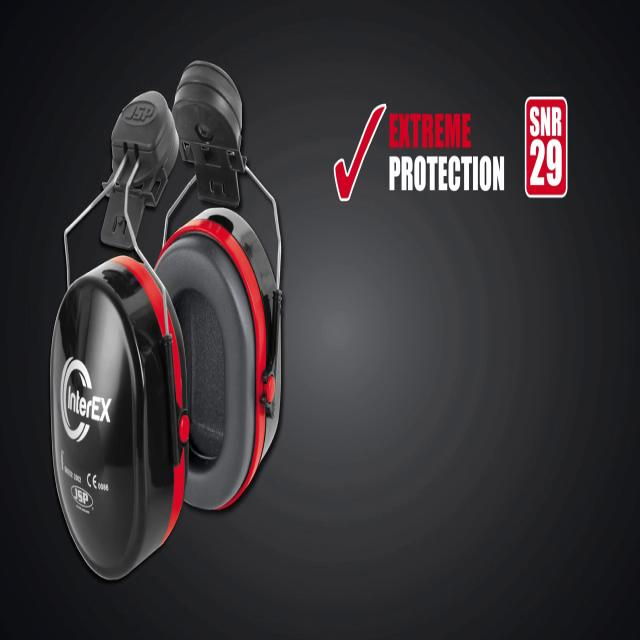earmuff: (47, 248, 192, 586), (151, 198, 287, 520)
